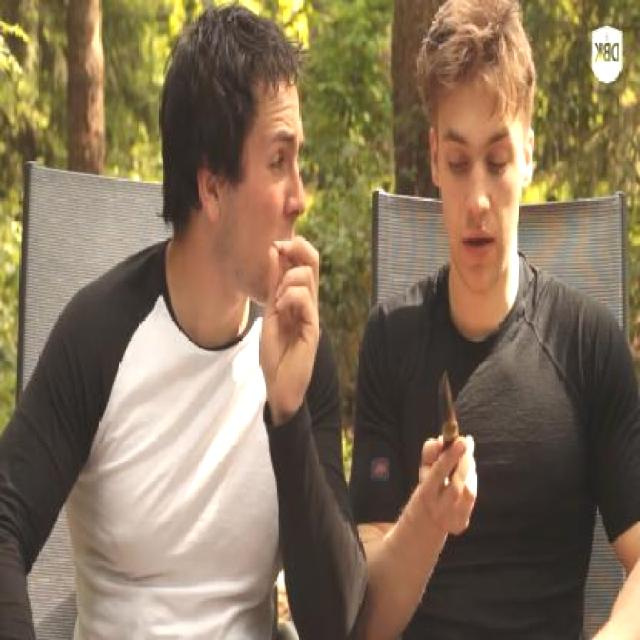knife: (423, 360, 483, 517)
